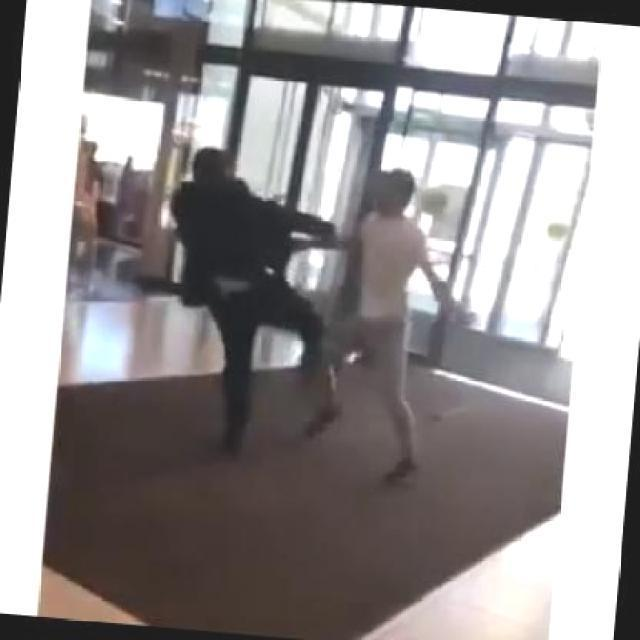fight: (146, 138, 462, 484)
